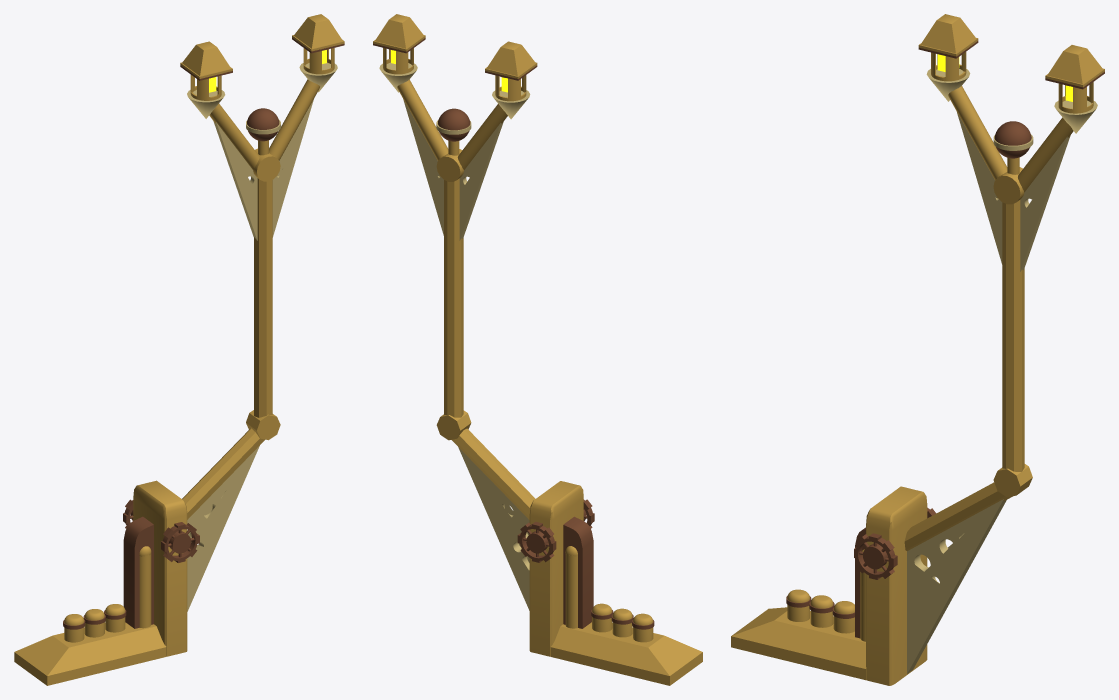
Rendered from highPoly_Streetlamp.fbx.
3 renders of one model, left to right at view 1: azimuth 30°, elevation 25°; view 2: azimuth 150°, elevation 25°; view 3: azimuth 330°, elevation 25°, orthographic. The views are drawn at different scales.
Visible parts, largest first — view 1: highpoly streetlamp; view 2: highpoly streetlamp; view 3: highpoly streetlamp.
Part boxes in pixels (x1,y1,x2,y2): highpoly streetlamp: (14, 14, 344, 685); highpoly streetlamp: (373, 14, 702, 685); highpoly streetlamp: (731, 14, 1104, 685).
Size of the model in its own units: 280 by 514 by 66.44.
